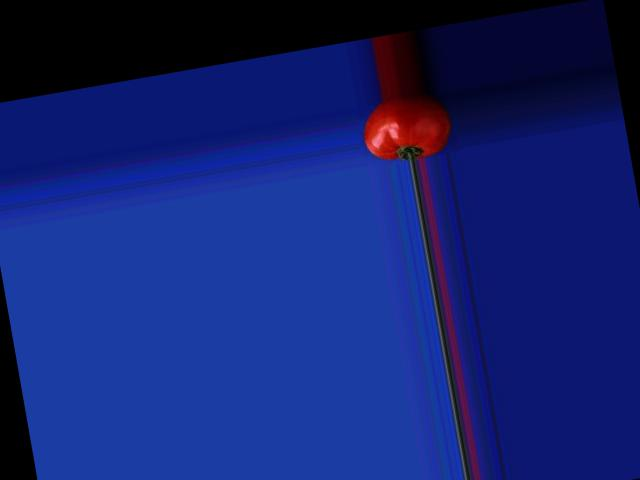tomato: (359, 88, 456, 167)
